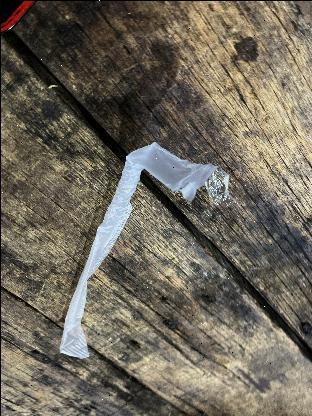Others: (53, 145, 199, 359), (204, 168, 228, 202)
